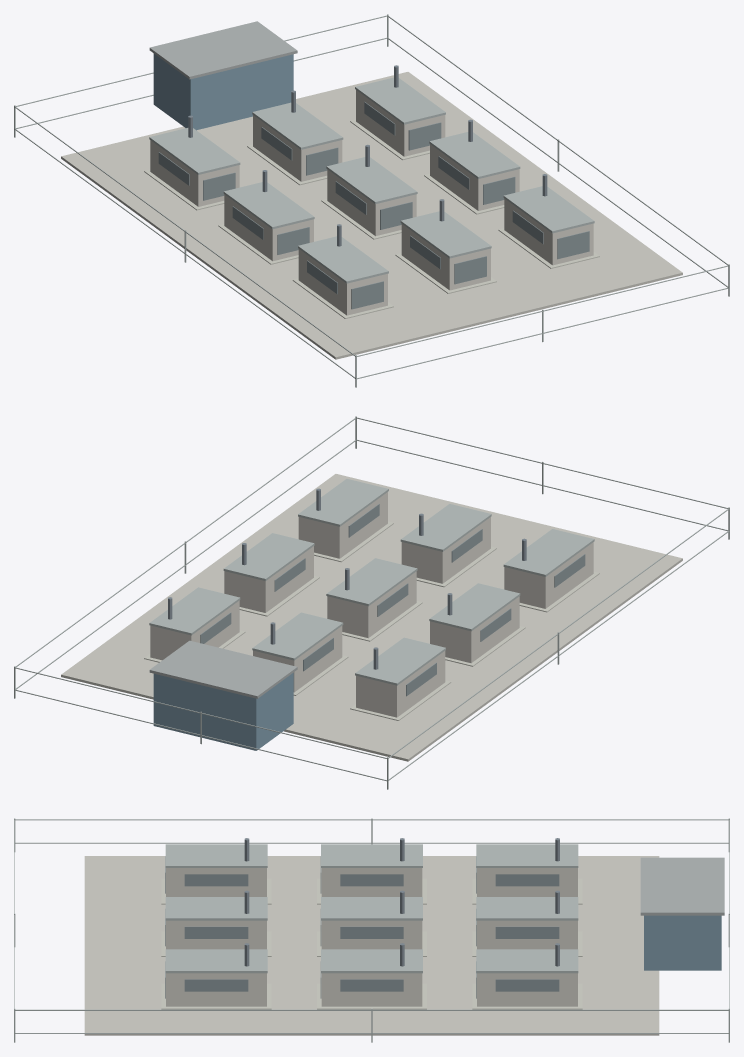
The model's file is dc-generator-yard.glb.
3 views of the same model, one above another, from view 1: azimuth 30°, elevation 25°; view 2: azimuth 150°, elevation 25°; view 3: azimuth 270°, elevation 25° (orthographic). The views are drawn at different scales.
Parts seen in each view (by area): view 1: dc-generator-yard; view 2: dc-generator-yard; view 3: dc-generator-yard.
Part boxes in pixels (<box>): dc-generator-yard: <box>14,14,729,387</box>; dc-generator-yard: <box>14,416,729,789</box>; dc-generator-yard: <box>14,818,729,1042</box>.
Size of the model in its own units: 29.08 by 4.4 by 46.08.
